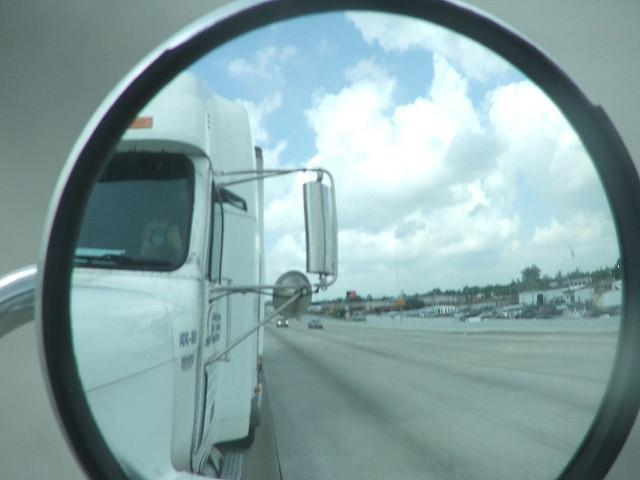car: (308, 319, 324, 329)
truck: (69, 73, 337, 474)
